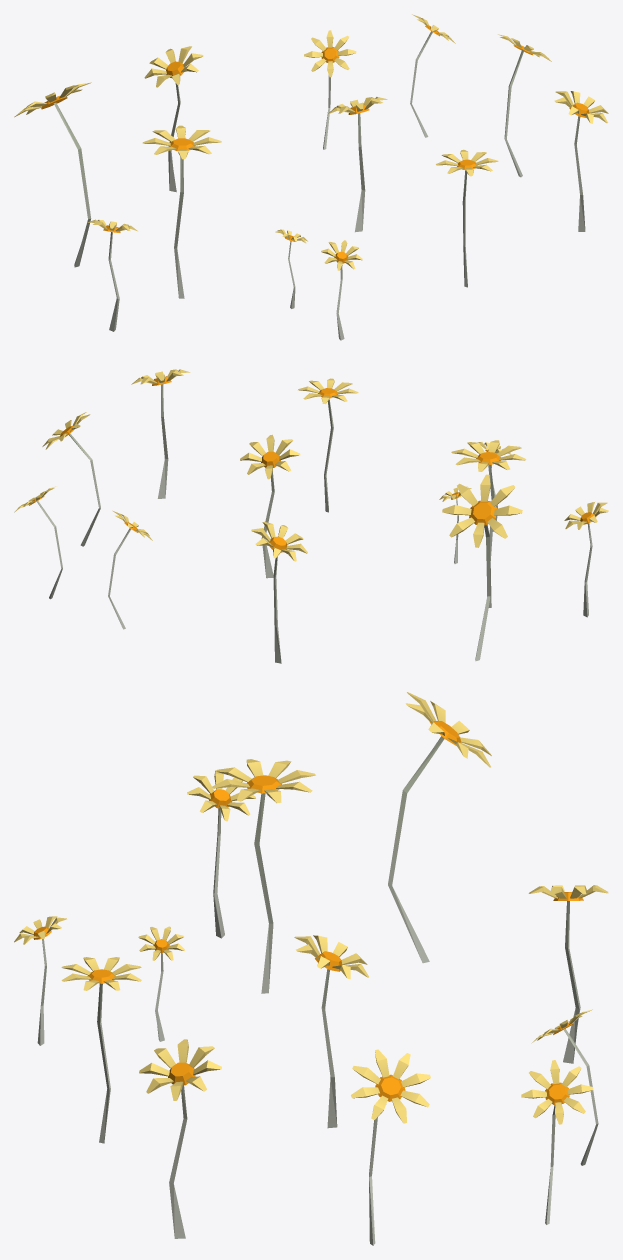
File: flower_daisy_yellow.glb
3 renders of one model, top to bottom at view 1: azimuth 30°, elevation 25°; view 2: azimuth 150°, elevation 25°; view 3: azimuth 270°, elevation 25°, orthographic. The views are drawn at different scales.
Visible parts, largest first — view 1: Flower 4_4_A; view 2: Flower 4_4_A; view 3: Flower 4_4_A.
Part boxes in pixels (x1,y1,x2,y2): Flower 4_4_A: (14,14,608,340); Flower 4_4_A: (14,369,608,663); Flower 4_4_A: (14,692,608,1245).
Size of the model in its own units: 0.608 by 0.2108 by 0.4459.
Materials: 1 (1 with a texture image).
